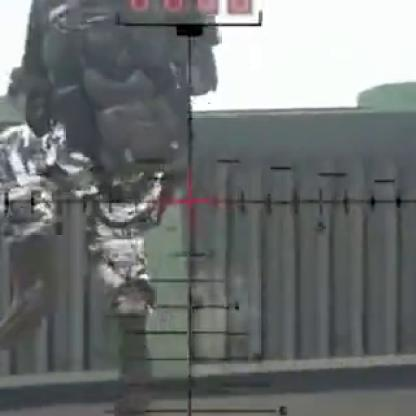enemy: (0, 0, 222, 405)
